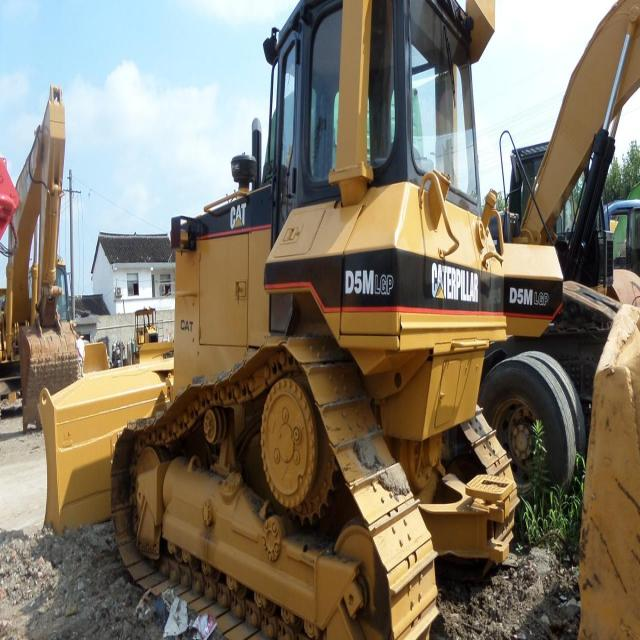Bulldozer: (14, 2, 576, 634)
